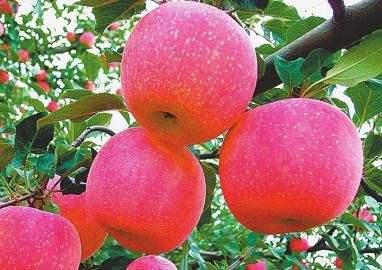apple: (120, 1, 259, 146), (219, 97, 364, 231), (85, 125, 208, 255), (1, 202, 82, 269), (78, 31, 95, 48)
